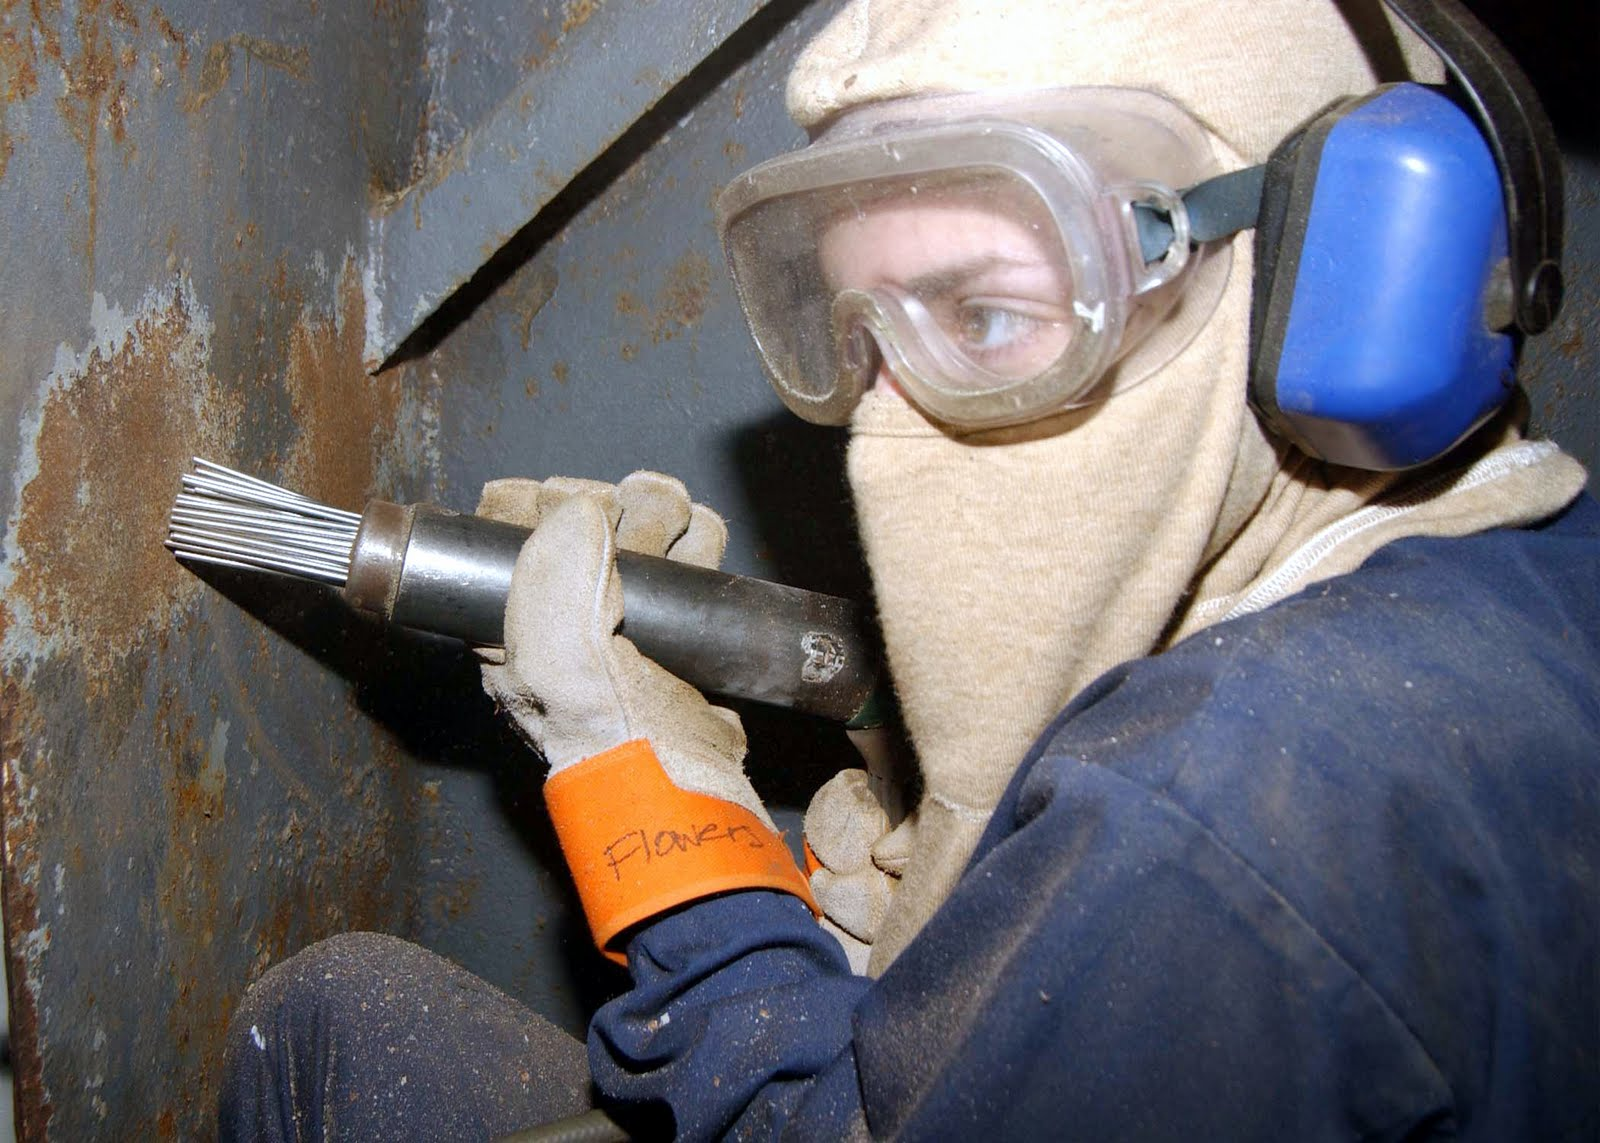rust: (31, 382, 183, 623), (15, 14, 184, 124), (286, 332, 382, 497)
